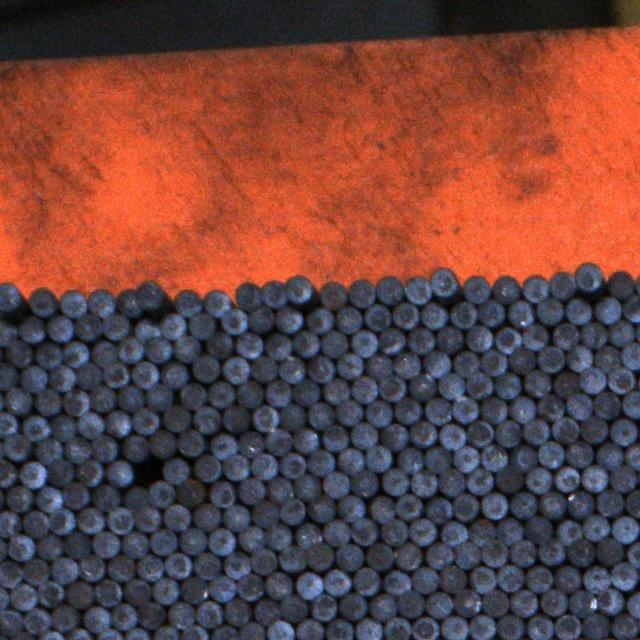tool: (134, 279, 163, 311), (200, 288, 230, 317), (491, 274, 520, 304), (573, 260, 602, 290), (114, 287, 142, 318), (86, 288, 115, 317), (58, 288, 86, 318), (173, 288, 201, 318), (284, 274, 312, 304), (319, 280, 347, 310), (375, 274, 403, 304), (404, 274, 432, 304), (292, 329, 320, 359), (29, 286, 56, 317), (430, 267, 458, 296), (462, 274, 490, 303), (606, 270, 634, 299), (234, 281, 261, 311), (549, 270, 576, 300), (521, 274, 549, 302), (434, 326, 462, 354), (116, 384, 144, 412), (607, 366, 635, 394), (89, 434, 117, 462), (250, 452, 278, 480), (176, 479, 204, 507), (263, 572, 291, 600), (438, 564, 466, 592), (582, 566, 610, 594), (347, 278, 374, 307), (593, 390, 620, 419), (17, 461, 46, 488), (438, 468, 465, 497), (180, 527, 207, 556), (100, 313, 128, 340), (391, 301, 418, 329), (506, 299, 533, 327), (61, 340, 88, 368), (320, 330, 348, 357), (192, 354, 219, 382), (222, 356, 249, 384), (278, 356, 305, 384), (537, 345, 564, 373), (565, 344, 592, 372), (3, 387, 31, 414), (88, 384, 115, 412), (291, 378, 319, 405), (377, 374, 405, 401), (524, 368, 551, 396), (76, 411, 104, 438), (163, 404, 190, 432), (148, 429, 175, 457), (424, 396, 451, 424), (550, 416, 578, 443), (92, 485, 120, 512), (76, 507, 104, 534), (208, 528, 235, 556), (566, 491, 594, 518), (193, 552, 220, 580), (454, 540, 481, 568), (567, 538, 594, 566), (94, 579, 121, 607), (180, 576, 207, 604), (338, 593, 366, 620), (569, 590, 597, 617), (261, 279, 287, 308), (46, 315, 73, 342), (220, 307, 247, 334), (335, 306, 362, 333), (420, 302, 447, 329), (406, 327, 433, 354), (465, 325, 492, 352), (607, 320, 634, 347), (131, 361, 158, 388), (479, 349, 506, 376), (207, 381, 234, 408), (408, 373, 435, 400), (3, 432, 30, 459), (193, 406, 220, 433), (222, 405, 249, 432), (62, 436, 89, 463), (365, 399, 392, 426), (438, 423, 465, 450), (508, 395, 535, 422), (466, 420, 493, 447), (494, 419, 521, 446), (47, 459, 74, 486), (336, 448, 363, 475), (596, 442, 623, 469), (193, 504, 220, 531), (223, 504, 250, 531), (64, 532, 91, 559), (251, 501, 278, 528), (538, 491, 565, 518), (595, 489, 622, 516), (250, 547, 277, 574), (481, 540, 508, 567), (524, 516, 551, 543), (611, 516, 638, 543), (124, 579, 151, 606), (581, 613, 608, 640), (5, 340, 31, 368), (143, 336, 171, 362), (234, 332, 262, 358), (351, 329, 377, 357), (552, 322, 578, 350), (160, 362, 188, 388), (307, 354, 333, 382), (508, 346, 534, 374), (236, 380, 262, 408), (464, 372, 492, 398), (176, 429, 204, 455), (393, 397, 421, 423), (408, 421, 436, 447), (322, 424, 348, 452), (578, 416, 606, 442), (481, 444, 507, 472), (495, 466, 523, 492), (526, 466, 552, 494), (581, 464, 607, 492), (107, 506, 133, 534), (163, 552, 191, 578), (481, 492, 507, 520), (336, 544, 364, 570), (207, 575, 235, 601), (82, 606, 110, 632), (167, 602, 195, 628), (452, 590, 480, 616), (481, 588, 507, 616), (351, 375, 376, 404), (74, 313, 100, 340), (188, 312, 214, 339), (274, 306, 301, 332), (450, 301, 476, 328), (536, 297, 562, 324), (594, 296, 620, 323), (116, 336, 142, 363), (173, 335, 199, 362), (264, 333, 290, 360), (494, 327, 521, 353), (522, 323, 548, 350), (579, 322, 606, 348), (20, 365, 46, 392), (48, 365, 75, 391), (336, 352, 363, 378), (453, 352, 480, 378), (145, 383, 171, 410), (179, 382, 205, 409), (132, 408, 159, 434), (122, 434, 148, 461), (252, 404, 278, 431), (307, 402, 334, 428), (335, 400, 362, 426), (237, 430, 264, 456), (265, 428, 291, 455), (479, 397, 506, 423), (536, 394, 563, 420), (610, 418, 636, 445), (76, 459, 102, 486), (106, 459, 132, 486), (162, 457, 188, 484), (193, 456, 220, 482), (453, 446, 479, 473), (322, 471, 348, 498), (93, 531, 119, 558), (150, 530, 177, 556), (77, 555, 104, 581), (338, 495, 364, 522), (264, 522, 290, 549), (381, 518, 407, 545), (410, 518, 436, 545), (306, 543, 332, 570), (9, 584, 36, 610), (37, 580, 63, 607), (67, 581, 93, 608), (152, 577, 178, 604), (236, 574, 263, 600), (296, 572, 322, 599), (323, 569, 350, 595), (496, 565, 523, 591), (525, 566, 552, 592), (554, 565, 580, 592), (611, 562, 637, 589), (195, 600, 221, 627), (369, 593, 395, 620), (540, 588, 566, 615), (249, 356, 277, 381), (426, 446, 451, 474), (510, 447, 538, 472), (37, 486, 62, 514), (467, 467, 492, 495), (23, 510, 48, 538), (296, 522, 321, 550), (278, 545, 306, 570), (426, 543, 454, 568), (353, 567, 378, 595), (159, 313, 185, 339), (247, 306, 273, 332), (306, 307, 332, 333), (477, 299, 503, 325), (564, 298, 590, 324), (34, 343, 60, 369), (206, 332, 232, 358), (102, 361, 128, 387), (366, 354, 392, 380), (424, 351, 450, 377), (594, 346, 620, 372), (34, 388, 60, 414), (323, 378, 349, 404), (494, 372, 520, 398), (554, 372, 580, 398), (50, 415, 76, 441), (279, 404, 305, 430), (566, 393, 592, 419), (351, 422, 377, 448), (538, 442, 564, 468), (566, 442, 592, 468), (148, 481, 174, 507), (382, 468, 408, 494), (610, 466, 636, 492), (122, 532, 148, 558), (136, 554, 162, 580), (278, 498, 304, 524), (395, 494, 421, 520), (441, 521, 467, 547), (468, 520, 494, 546), (224, 553, 250, 579), (395, 543, 421, 569), (496, 520, 522, 546), (538, 539, 564, 565), (412, 567, 438, 593), (470, 566, 496, 592), (137, 602, 163, 628), (510, 590, 536, 616), (468, 614, 494, 640), (554, 614, 580, 640), (91, 340, 116, 367), (75, 362, 100, 389), (63, 389, 88, 416), (22, 415, 49, 440), (36, 437, 61, 464), (379, 424, 406, 449), (365, 445, 390, 472), (6, 487, 33, 512), (351, 469, 376, 496), (239, 525, 264, 552), (453, 494, 478, 521), (511, 492, 536, 519), (582, 515, 609, 540), (111, 603, 136, 630), (397, 590, 422, 617), (364, 304, 389, 330), (378, 328, 404, 353), (394, 352, 419, 378), (265, 380, 290, 406), (438, 373, 463, 399), (580, 367, 605, 393), (105, 410, 130, 436), (292, 427, 318, 452), (522, 419, 548, 444), (281, 452, 306, 478), (308, 450, 333, 476), (397, 448, 423, 473), (62, 483, 88, 508), (238, 478, 264, 503), (49, 508, 74, 534), (8, 535, 34, 560), (36, 534, 61, 560), (22, 559, 48, 584), (134, 506, 159, 532), (164, 504, 189, 530), (52, 557, 77, 583), (108, 555, 133, 581), (323, 520, 348, 546), (351, 518, 376, 544), (426, 498, 452, 523), (367, 544, 393, 569), (556, 520, 582, 545), (50, 605, 76, 630), (281, 596, 306, 622), (425, 592, 451, 617), (496, 615, 522, 640), (526, 615, 552, 640), (611, 614, 636, 640), (210, 434, 237, 458), (209, 481, 233, 508), (295, 474, 319, 501), (598, 588, 622, 615), (18, 317, 43, 342), (223, 455, 248, 480), (411, 472, 436, 497), (554, 467, 580, 491), (308, 497, 334, 521), (598, 538, 622, 564), (384, 571, 410, 595), (24, 609, 50, 633), (254, 600, 280, 624), (311, 594, 335, 620), (441, 616, 467, 640), (511, 539, 534, 566), (0, 609, 23, 636), (411, 617, 438, 640), (354, 618, 382, 640), (268, 478, 292, 503), (454, 396, 477, 422), (371, 496, 394, 522), (384, 617, 410, 640), (0, 560, 22, 587), (266, 619, 294, 640), (225, 601, 249, 625), (134, 320, 159, 343), (125, 486, 148, 511), (296, 619, 323, 640), (0, 510, 20, 538), (326, 619, 352, 640), (0, 281, 18, 311), (621, 390, 640, 418), (621, 294, 640, 321), (621, 342, 640, 369), (0, 363, 17, 390), (239, 622, 264, 640), (0, 460, 16, 488), (180, 625, 208, 640), (0, 320, 16, 346), (0, 412, 16, 438), (625, 489, 640, 516), (212, 625, 238, 640), (626, 444, 640, 471), (153, 625, 178, 640), (627, 541, 640, 568), (627, 592, 640, 618), (123, 627, 149, 640), (96, 628, 122, 640), (66, 628, 91, 640)
void: (128, 453, 162, 486)
